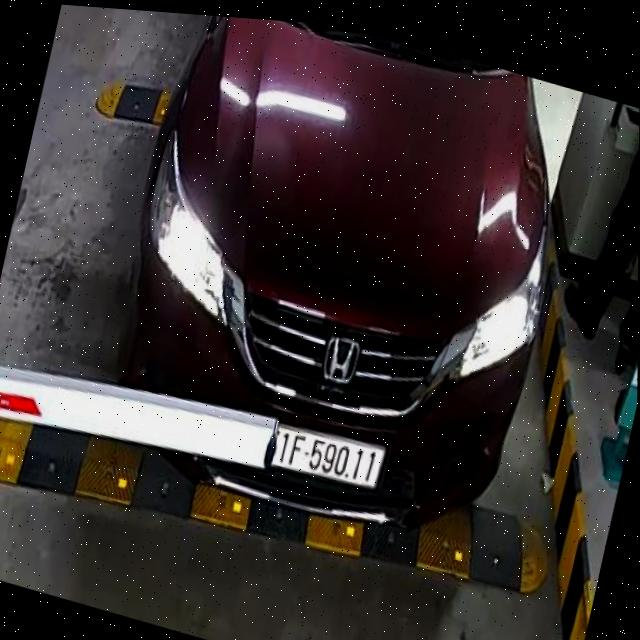car: (81, 6, 595, 581)
plate: (259, 409, 388, 497)
